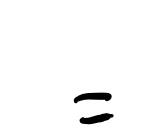eqv: (67, 88, 117, 127)
